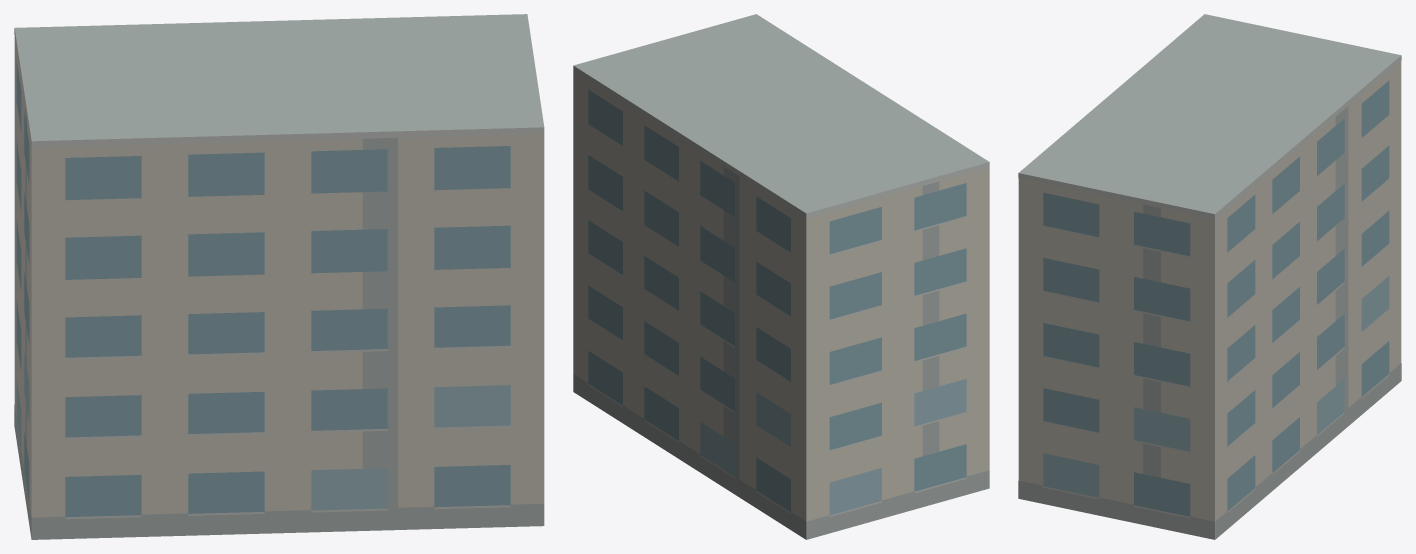
File: residential-b97e36ac-d238-4f16-a6f1-36e2f2746d84.glb
3 renders of one model, left to right at view 1: azimuth 30°, elevation 25°; view 2: azimuth 150°, elevation 25°; view 3: azimuth 270°, elevation 25°, orthographic. The views are drawn at different scales.
Visible parts, largest first — view 1: residential-b97e36ac-d238-4f16-a6f1-36e2f2746d84.tmp; view 2: residential-b97e36ac-d238-4f16-a6f1-36e2f2746d84.tmp; view 3: residential-b97e36ac-d238-4f16-a6f1-36e2f2746d84.tmp.
Boxes of the visible parts, x1=… form: residential-b97e36ac-d238-4f16-a6f1-36e2f2746d84.tmp: x1=14, y1=14, x2=544, y2=539; residential-b97e36ac-d238-4f16-a6f1-36e2f2746d84.tmp: x1=573, y1=14, x2=989, y2=539; residential-b97e36ac-d238-4f16-a6f1-36e2f2746d84.tmp: x1=1018, y1=14, x2=1401, y2=539.
Bounding box in the file's own units: 19.78 × 15 × 16.
